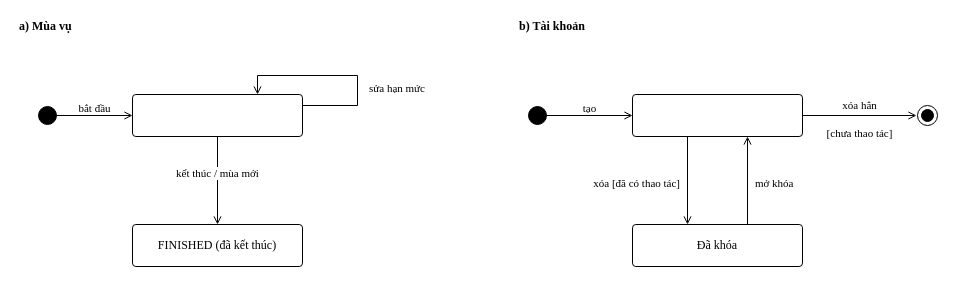
This 955x284 diagram has some shape labels left out. Here are the shapes that lost their labels. From the top down, the centre of each, then its label:
(217,115): ACTIVE (đang chạy)
(717,115): Hoạt động
